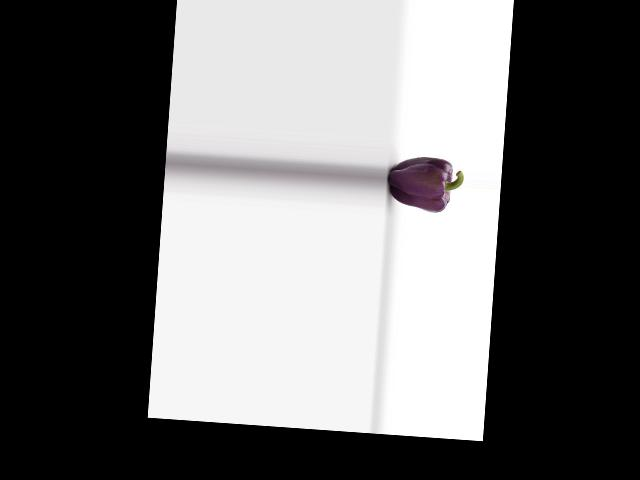bell_pepper: (387, 148, 464, 218)
